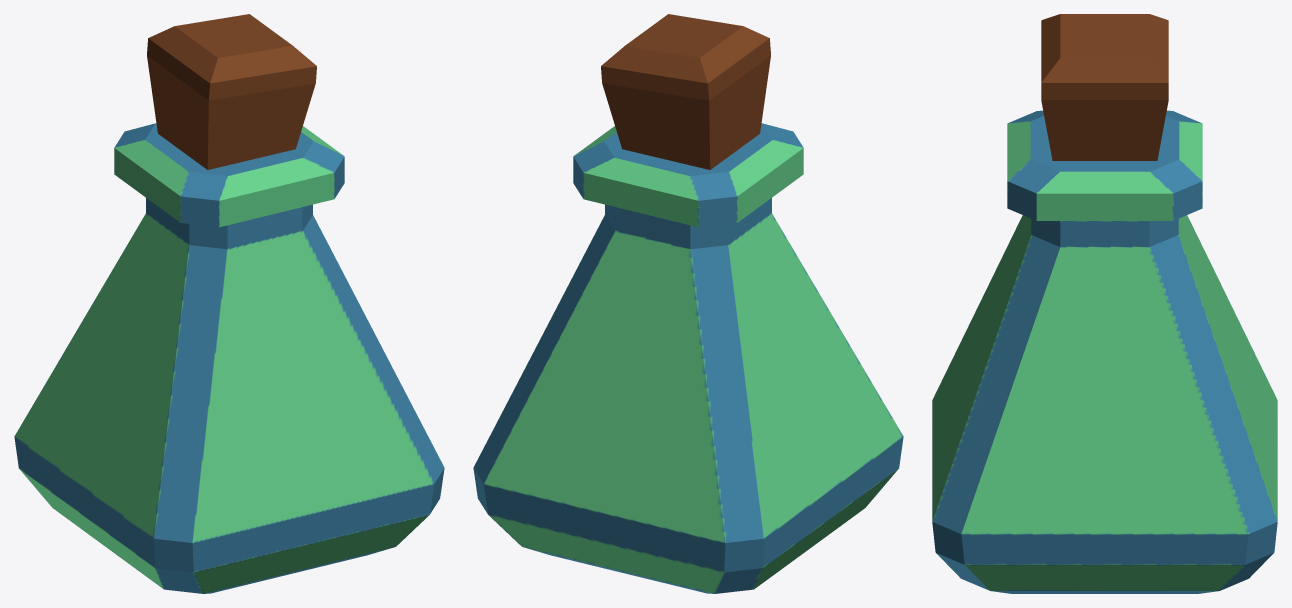
File: Potion.fbx
3 views of the same model, side by side, from view 1: azimuth 30°, elevation 25°; view 2: azimuth 150°, elevation 25°; view 3: azimuth 270°, elevation 25° (orthographic). The views are drawn at different scales.
Parts seen in each view (by area): view 1: Plane.012; view 2: Plane.012; view 3: Plane.012.
Part boxes in pixels (<box>): Plane.012: <box>14,14,444,593</box>; Plane.012: <box>473,14,903,593</box>; Plane.012: <box>932,14,1277,593</box>.
Bounding box in the file's own units: 0.3473 × 0.5673 × 0.3473.
Materials: 1 (1 with a texture image).
